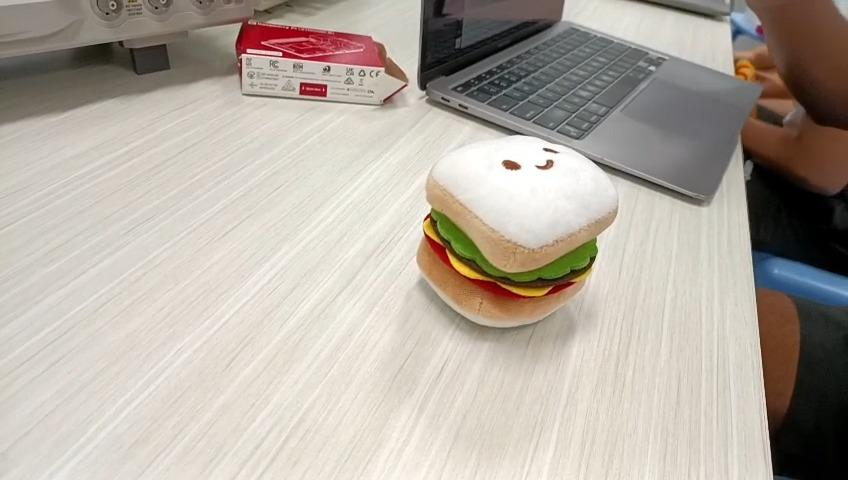objects: (416, 132, 622, 331)
